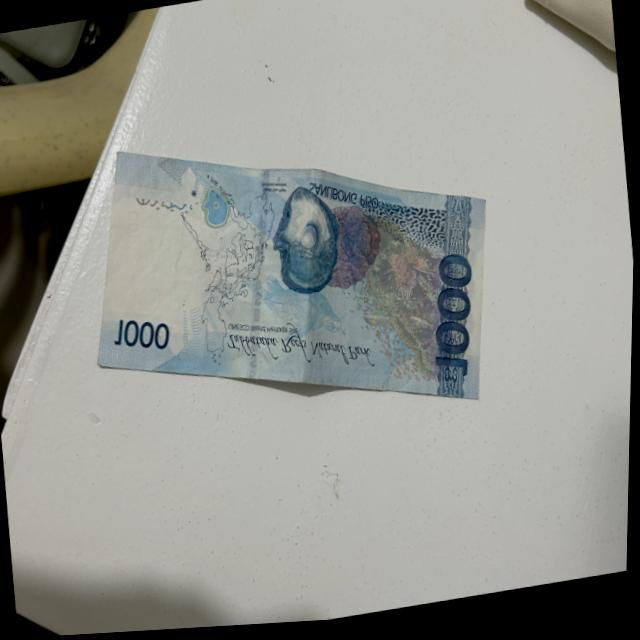1000_pearl: (266, 186, 344, 299)
1000_pearl_watermark: (201, 188, 232, 231)
